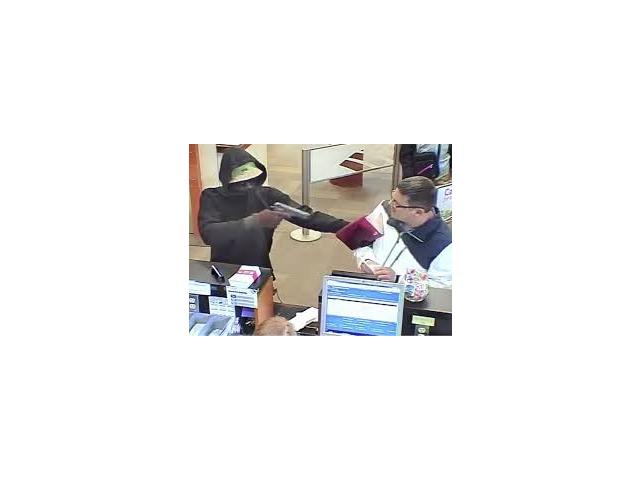pistol: (264, 202, 312, 236)
